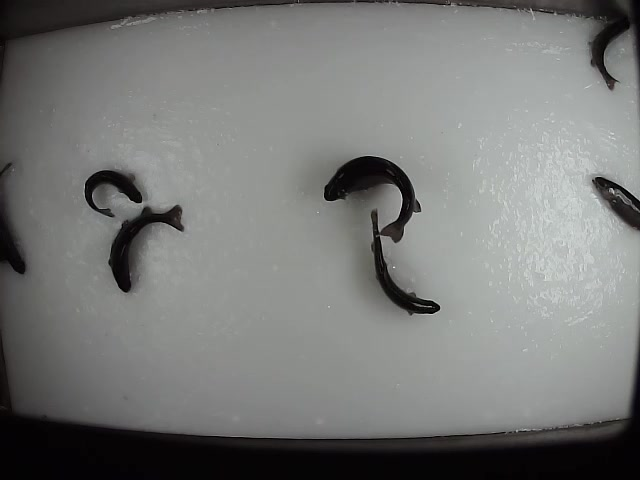fish: (321, 148, 422, 244), (365, 207, 443, 320), (109, 201, 186, 294), (587, 15, 634, 91), (81, 166, 144, 218)
